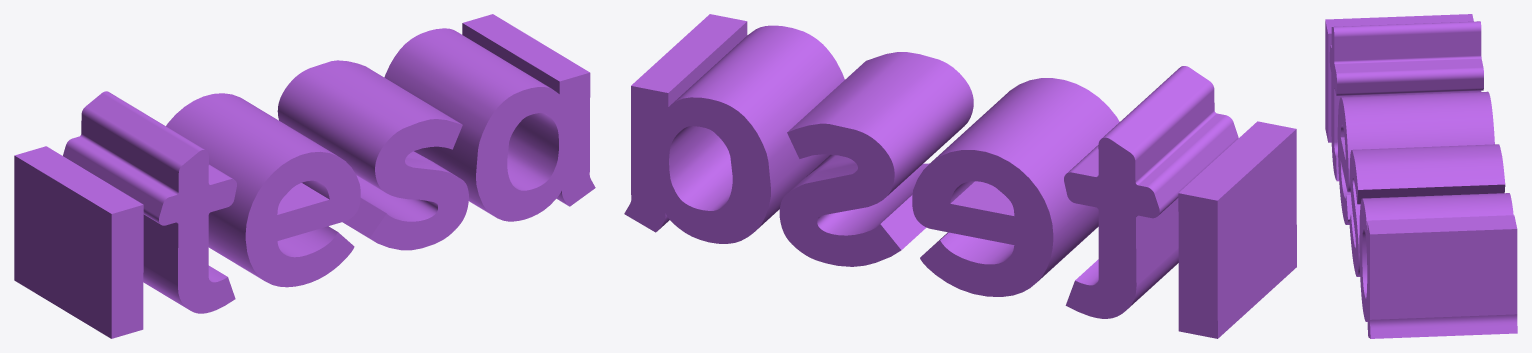
The model's file is itesa2.gltf.
3 views of the same model, side by side, from view 1: azimuth 30°, elevation 25°; view 2: azimuth 150°, elevation 25°; view 3: azimuth 270°, elevation 25° (orthographic). The views are drawn at different scales.
Visible parts, largest first — view 1: itesa; view 2: itesa; view 3: itesa.
Boxes of the visible parts, x1,y1,x2,y2 form: itesa: [14, 14, 595, 338]; itesa: [624, 14, 1296, 338]; itesa: [1325, 14, 1517, 338].
Bounding box in the file's own units: 139 × 42.11 × 50.86.
